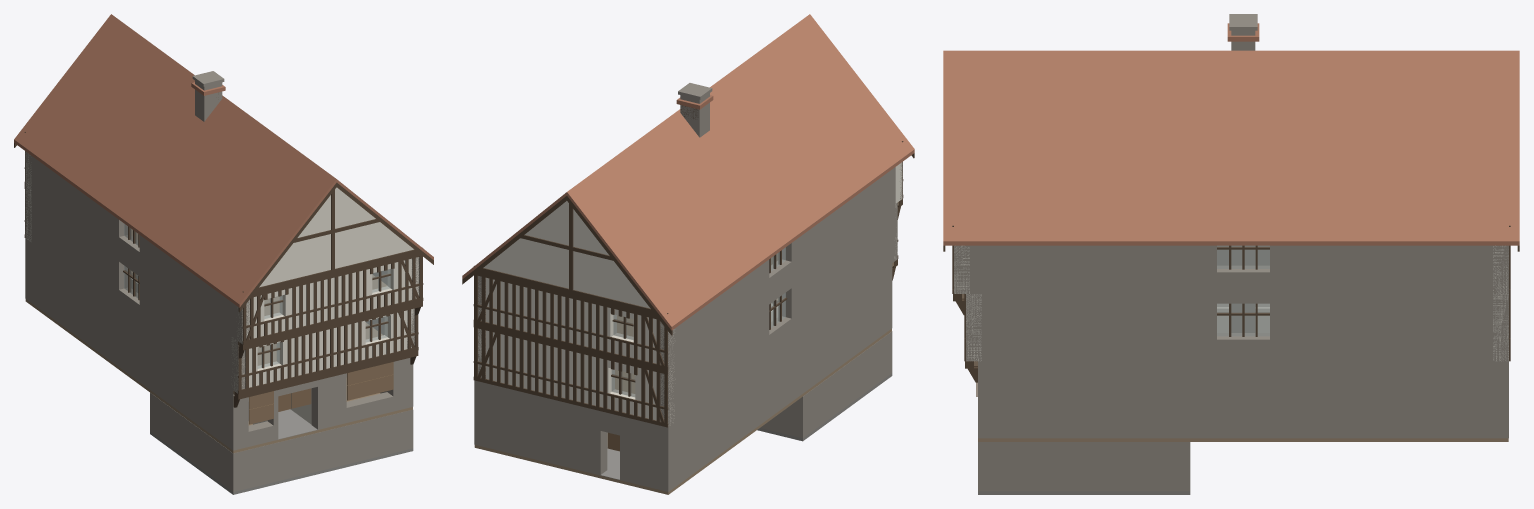
Rendered from wealthy-hall-house.glb.
3 views of the same model, side by side, from view 1: azimuth 30°, elevation 25°; view 2: azimuth 150°, elevation 25°; view 3: azimuth 270°, elevation 25° (orthographic). The views are drawn at different scales.
Visible parts, largest first — view 1: stone, roof, timber, render, floor, glass, flags, cobbles, wealthy-hall-house-shutter-04 leaf, wealthy-hall-house-shutter-03 leaf; view 2: stone, roof, timber, render, floor, glass, flags; view 3: stone, roof, glass, render, floor, timber, flags.
Part boxes in pixels (left/top/right/bottom): stone: left=25, top=71, right=419, bottom=491; roof: left=14, top=14, right=433, bottom=307; timber: left=14, top=132, right=433, bottom=407; render: left=25, top=153, right=419, bottom=424; floor: left=25, top=229, right=412, bottom=453; glass: left=124, top=223, right=390, bottom=368; flags: left=150, top=431, right=413, bottom=494; cobbles: left=278, top=409, right=319, bottom=439; wealthy-hall-house-shutter-04 leaf: left=347, top=374, right=393, bottom=400; wealthy-hall-house-shutter-03 leaf: left=347, top=362, right=393, bottom=385; stone: left=474, top=83, right=902, bottom=491; roof: left=462, top=14, right=914, bottom=330; timber: left=462, top=105, right=914, bottom=427; render: left=478, top=162, right=902, bottom=446; floor: left=474, top=202, right=898, bottom=494; glass: left=611, top=247, right=785, bottom=397; flags: left=757, top=373, right=892, bottom=441; stone: left=954, top=14, right=1508, bottom=491; roof: left=943, top=23, right=1519, bottom=245; glass: left=1217, top=245, right=1269, bottom=336; render: left=954, top=245, right=1508, bottom=361; floor: left=962, top=294, right=1508, bottom=441; timber: left=943, top=225, right=1519, bottom=382; flags: left=978, top=491, right=1190, bottom=494.
Size of the model in its own units: 10.8 by 17.1 by 21.7.
